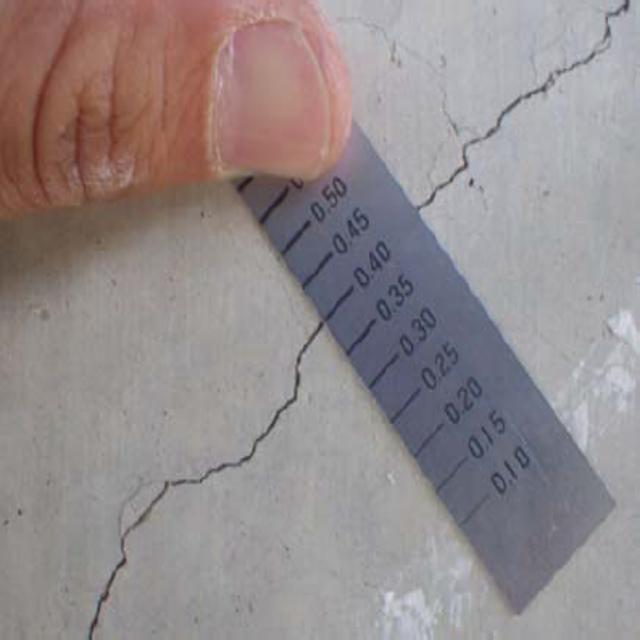crack: (41, 315, 337, 640), (413, 3, 640, 226)
